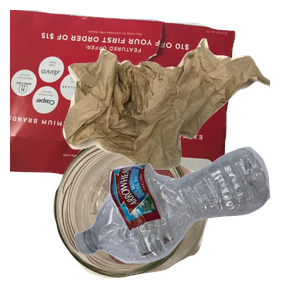glass: (50, 131, 252, 300)
paper: (10, 10, 238, 190)
plastic: (72, 144, 300, 300)
trash: (60, 36, 300, 198)
